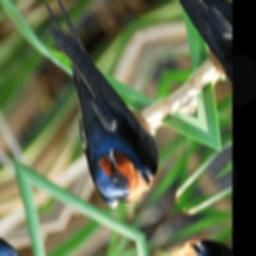Swallow: (0, 0, 182, 221)
